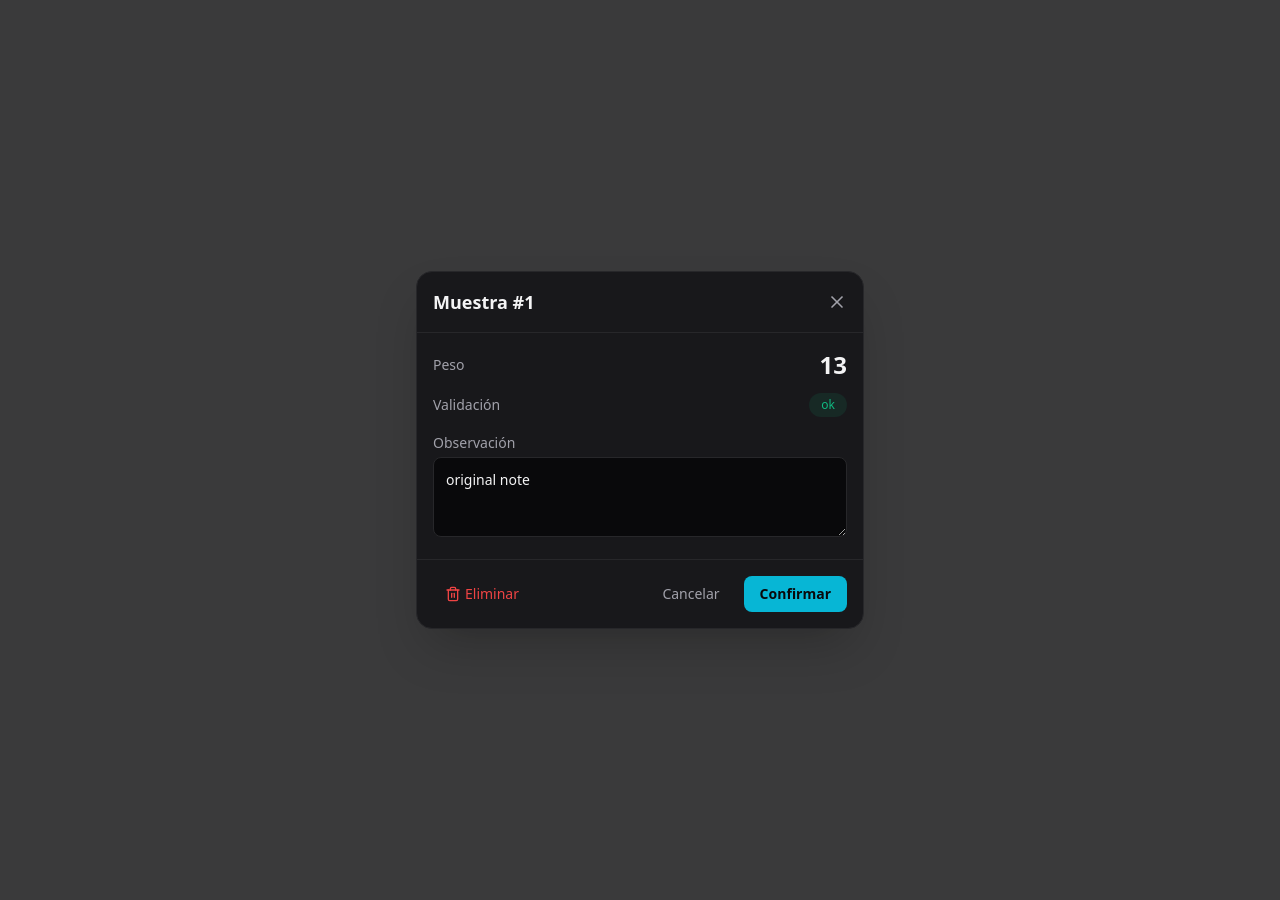
Test: MuestraObservacionPopup › tells the user the observation cannot be empty on a 400 validation error
What coordinates should you click on to do the following:
click the button "Confirmar"
I would click on:
 (795, 594)
Its box is [744,576,847,612].
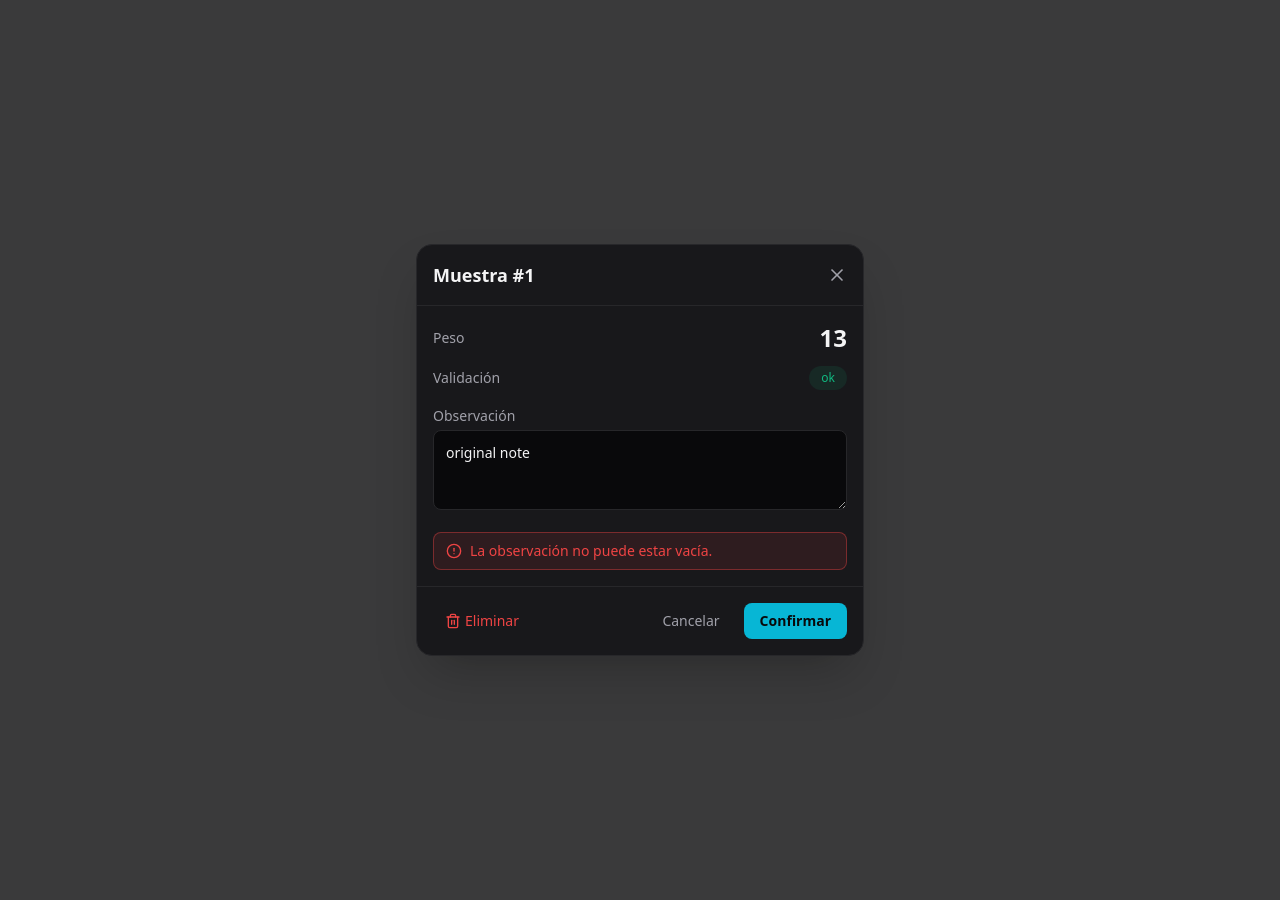
Check: the message does not show "validation error", box [433,532,847,570]
Check: the message shows "La observación no puede estar vacía", box [470,541,712,560]
